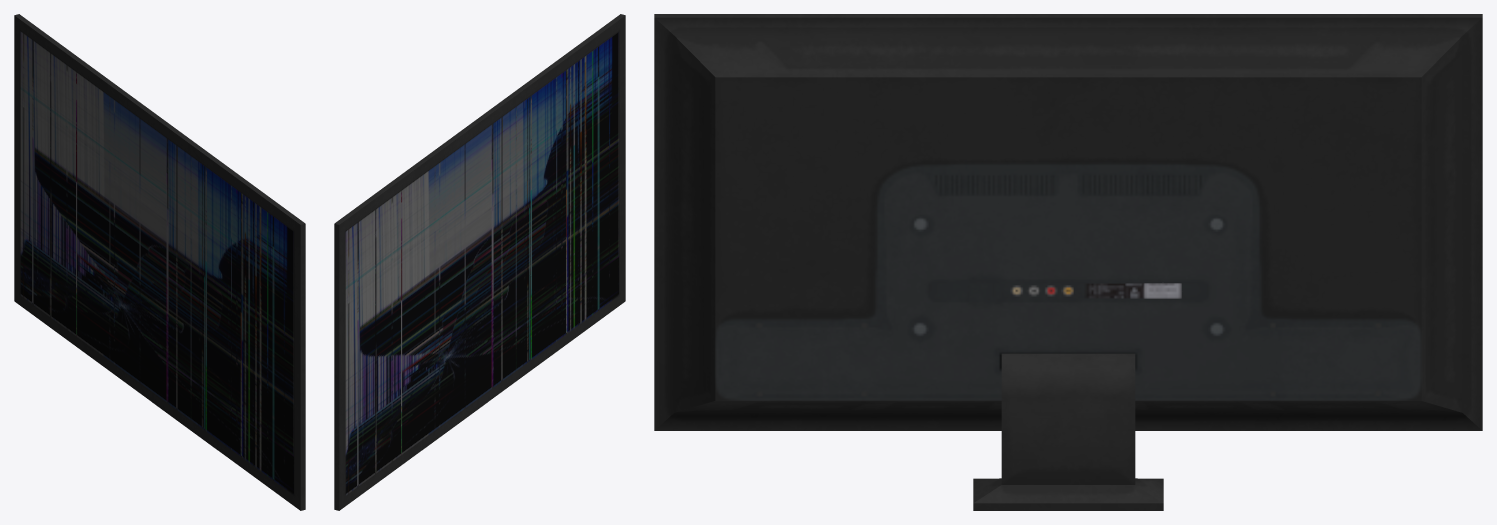
3 renders of one model, left to right at view 1: azimuth 30°, elevation 25°; view 2: azimuth 150°, elevation 25°; view 3: azimuth 270°, elevation 25°, orthographic. The views are drawn at different scales.
Visible parts, largest first — view 1: MB_TV; view 2: MB_TV; view 3: MB_TV.
Boxes of the visible parts, x1,y1,x2,y2 form: MB_TV: (14,14,305,510); MB_TV: (334,14,625,510); MB_TV: (654,14,1482,510).
Size of the model in its own units: 17.45 by 83.47 by 138.
